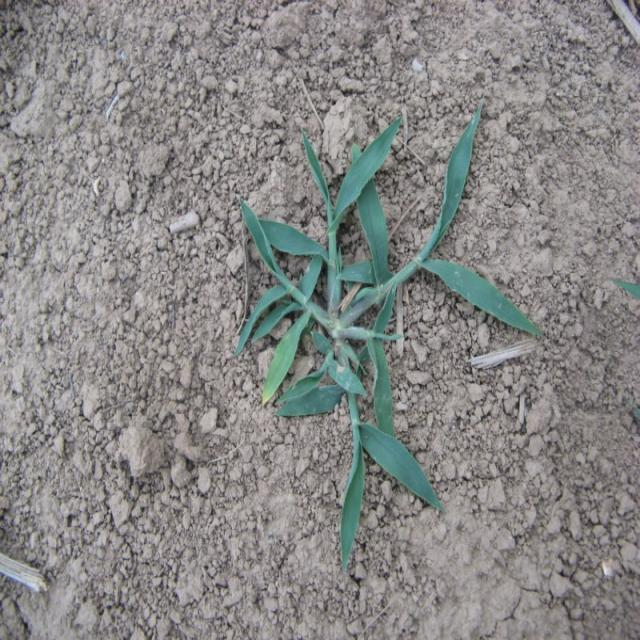bg: (232, 98, 546, 564)
